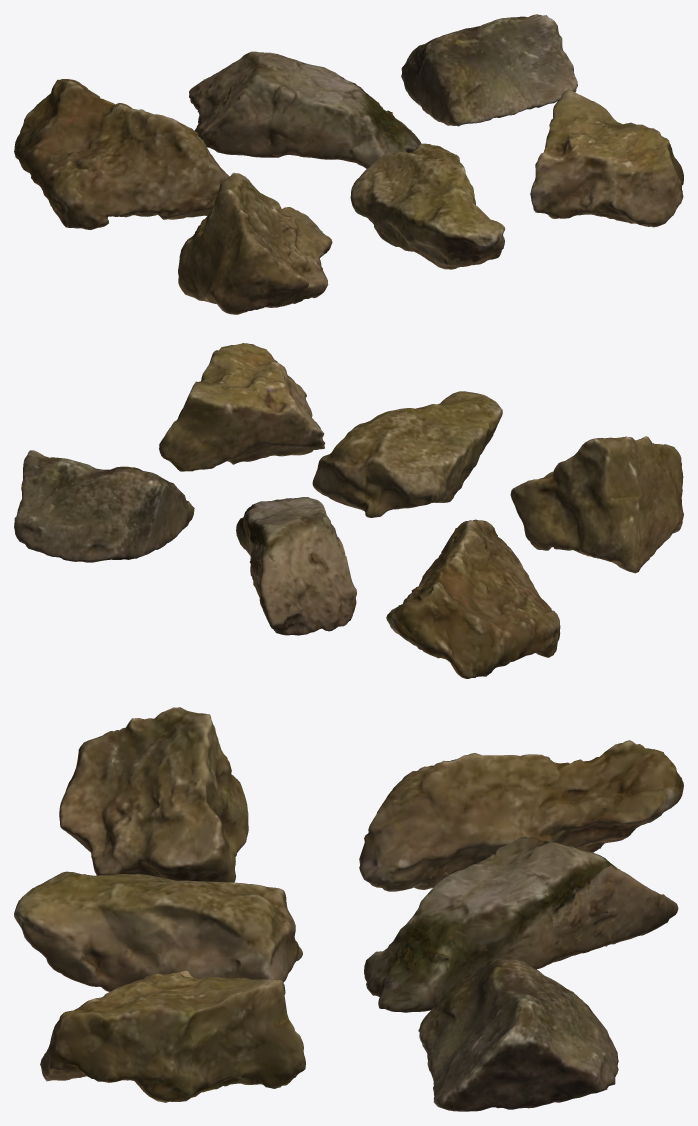
File: rock_moss_set_01.glb
The picture shows the model from 3 angles, top to bottom: view 1: azimuth 30°, elevation 25°; view 2: azimuth 150°, elevation 25°; view 3: azimuth 270°, elevation 25°; orthographic projection. The views are drawn at different scales.
Parts seen in each view (by area): view 1: rock_moss_set_01_rock01, rock_moss_set_01_rock02, rock_moss_set_01_rock06, rock_moss_set_01_rock04, rock_moss_set_01_rock03, rock_moss_set_01_rock05; view 2: rock_moss_set_01_rock04, rock_moss_set_01_rock01, rock_moss_set_01_rock05, rock_moss_set_01_rock03, rock_moss_set_01_rock06, rock_moss_set_01_rock02; view 3: rock_moss_set_01_rock01, rock_moss_set_01_rock02, rock_moss_set_01_rock05, rock_moss_set_01_rock04, rock_moss_set_01_rock06, rock_moss_set_01_rock03.
Boxes of the visible parts, box(x1,y1,x2,y2) form: rock_moss_set_01_rock01: box(14, 79, 229, 229); rock_moss_set_01_rock02: box(189, 51, 421, 168); rock_moss_set_01_rock06: box(530, 89, 683, 227); rock_moss_set_01_rock04: box(178, 173, 332, 314); rock_moss_set_01_rock03: box(401, 14, 577, 126); rock_moss_set_01_rock05: box(350, 143, 505, 269); rock_moss_set_01_rock04: box(510, 436, 683, 573); rock_moss_set_01_rock01: box(386, 519, 560, 678); rock_moss_set_01_rock05: box(312, 391, 502, 517); rock_moss_set_01_rock03: box(14, 450, 194, 562); rock_moss_set_01_rock06: box(159, 343, 325, 471); rock_moss_set_01_rock02: box(236, 497, 356, 635); rock_moss_set_01_rock01: box(359, 740, 683, 891); rock_moss_set_01_rock02: box(364, 836, 678, 1012); rock_moss_set_01_rock05: box(14, 871, 302, 991); rock_moss_set_01_rock04: box(59, 707, 248, 882); rock_moss_set_01_rock06: box(40, 970, 305, 1102); rock_moss_set_01_rock03: box(418, 956, 618, 1111).
Bounding box in the file's own units: 8 × 1.77 × 6.95.
1 material, 1 textured.
